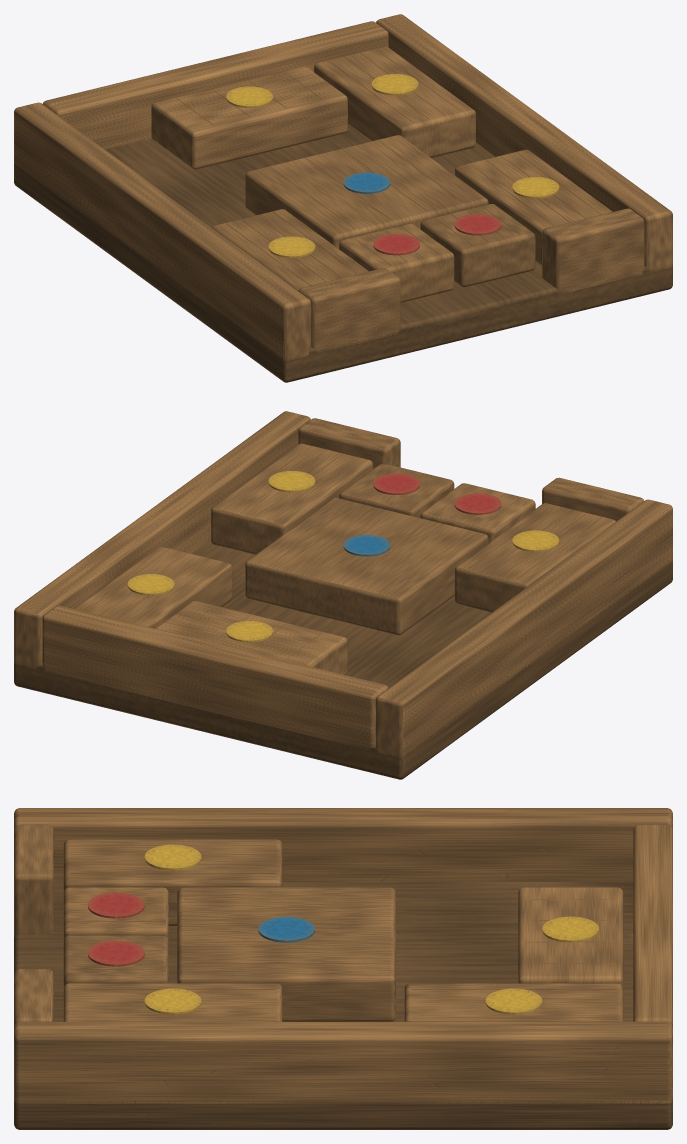
File: photo-puzzle-seven-oak-r01.glb
3 views of the same model, one above another, from view 1: azimuth 30°, elevation 25°; view 2: azimuth 150°, elevation 25°; view 3: azimuth 270°, elevation 25° (orthographic). The views are drawn at different scales.
Visible parts, largest first — view 1: tray, frame_left, blue_wood, frame_right, yellow5_wood, frame_top, yellow2_wood, exit_edge.001, yellow4_wood, exit_edge, red4_wood, yellow3_wood (+8 smaller); view 2: tray, frame_top, frame_left, blue_wood, frame_right, yellow4_wood, yellow3_wood, yellow2_wood, yellow5_wood, red3_wood, red4_wood, exit_edge.001 (+8 smaller); view 3: frame_right, tray, frame_left, blue_wood, yellow3_wood, yellow5_wood, frame_top, yellow2_wood, yellow4_wood, exit_edge, red3_wood, red4_wood (+8 smaller).
Boxes of the visible parts, left/top/right/bottom form: tray: left=14, top=124, right=672, bottom=382; frame_left: left=14, top=102, right=311, bottom=360; blue_wood: left=245, top=135, right=488, bottom=248; frame_right: left=376, top=14, right=672, bottom=271; yellow5_wood: left=151, top=66, right=347, bottom=169; frame_top: left=43, top=21, right=388, bottom=149; yellow2_wood: left=314, top=46, right=475, bottom=157; exit_edge.001: left=542, top=208, right=644, bottom=293; yellow4_wood: left=454, top=149, right=612, bottom=265; exit_edge: left=298, top=268, right=400, bottom=353; red4_wood: left=420, top=204, right=535, bottom=287; yellow3_wood: left=211, top=209, right=368, bottom=291; tray: left=14, top=539, right=672, bottom=779; frame_top: left=42, top=605, right=388, bottom=750; frame_left: left=375, top=499, right=672, bottom=757; blue_wood: left=245, top=497, right=488, bottom=635; frame_right: left=14, top=411, right=310, bottom=669; yellow4_wood: left=211, top=443, right=372, bottom=554; yellow3_wood: left=454, top=503, right=615, bottom=612; yellow2_wood: left=74, top=546, right=232, bottom=628; yellow5_wood: left=155, top=601, right=347, bottom=674; red3_wood: left=420, top=483, right=535, bottom=542; red4_wood: left=339, top=463, right=454, bottom=517; exit_edge.001: left=298, top=418, right=400, bottom=468; frame_right: left=14, top=1021, right=672, bottom=1103; tray: left=14, top=882, right=672, bottom=1129; frame_left: left=14, top=808, right=672, bottom=881; blue_wood: left=177, top=887, right=395, bottom=1021; yellow3_wood: left=63, top=839, right=282, bottom=926; yellow5_wood: left=518, top=887, right=623, bottom=988; frame_top: left=633, top=824, right=672, bottom=1026; yellow2_wood: left=404, top=983, right=623, bottom=1021; yellow4_wood: left=63, top=983, right=282, bottom=1021; exit_edge: left=14, top=824, right=53, bottom=936; red3_wood: left=63, top=887, right=168, bottom=940; red4_wood: left=63, top=935, right=168, bottom=988.
Size of the model in its own units: 0.192 by 0.037 by 0.232.
3 materials, 3 textured.
